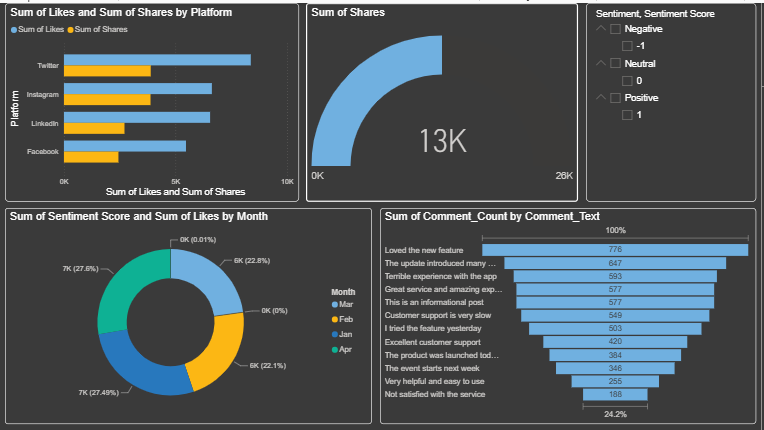

What the dashboard file says about the page in this screenshot:
{"tool":"powerbi","page":{"name":"Page 2","canvas":[1280,720],"ordinal":1},"visuals":[{"type":"clusteredBarChart","fields":{"Y":["Sum(social media sentiment Project.Likes)","Sum(social media sentiment Project.Shares)"],"Category":["social media sentiment Project.Platform"]},"box":[10.1,0,493.9,334.3],"z":0},{"type":"donutChart","fields":{"Category":["social media sentiment Project.Month","social media sentiment Project.User_Name"],"Y":["Sum(social media sentiment Project.Sentiment Score)","Sum(social media sentiment Project.Likes)"]},"box":[10.1,344.4,616.5,362.8],"z":1000},{"type":"funnel","fields":{"Y":["Sum(social media sentiment Project.Comment_Count)"],"Category":["social media sentiment Project.Comment_Text"]},"box":[640,344.4,631.6,362.8],"z":2000},{"type":"gauge","fields":{"Y":["Sum(social media sentiment Project.Shares)"]},"box":[515.7,0,456.9,334.3],"z":3000},{"type":"slicer","fields":{"Values":["social media sentiment Project.Sentiment","social media sentiment Project.Sentiment Score"]},"box":[986,0,285.6,334.3],"z":4000}]}

Visuals, with their boxes in screenshot pixels (x1, y1, x2, y2), scaled from the page's 1280x720 canvas onto the 764x430 screenshot:
clusteredBarChart - Sum(social media sentiment Project.Likes) x Sum(social media sentiment Project.Shares): left=6, top=0, right=301, bottom=200
donutChart - social media sentiment Project.Month x social media sentiment Project.User_Name: left=6, top=206, right=374, bottom=422
funnel - Sum(social media sentiment Project.Comment_Count) x social media sentiment Project.Comment_Text: left=382, top=206, right=759, bottom=422
gauge - Sum(social media sentiment Project.Shares): left=308, top=0, right=581, bottom=200
slicer - social media sentiment Project.Sentiment x social media sentiment Project.Sentiment Score: left=589, top=0, right=759, bottom=200
